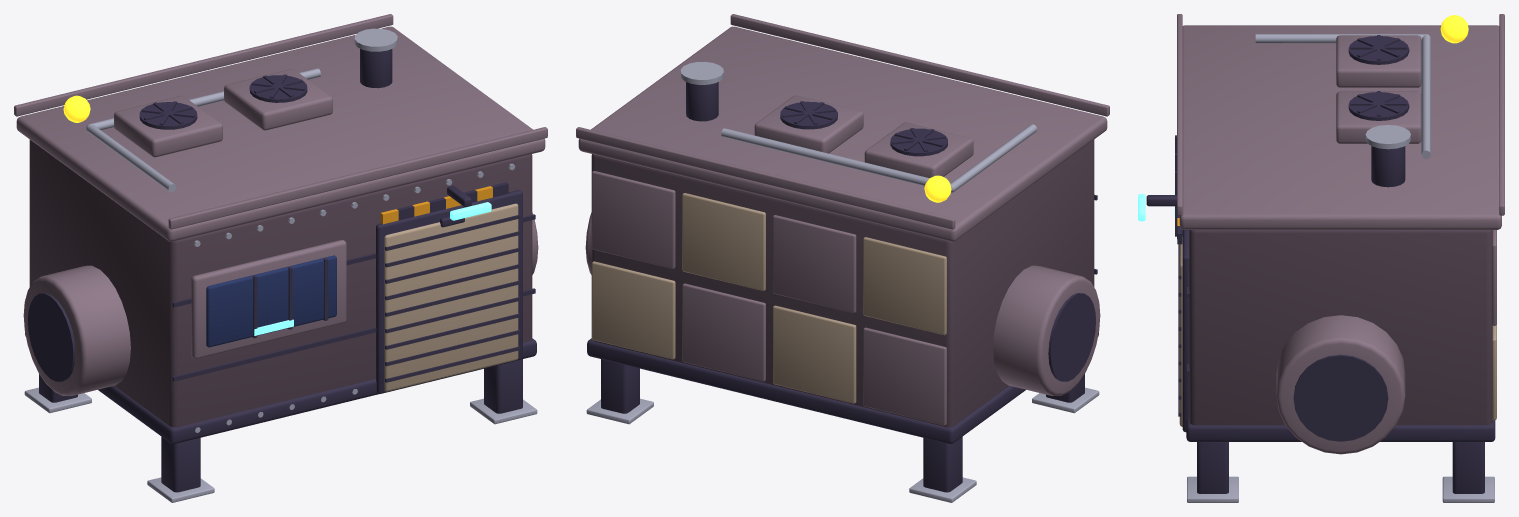
File: workshop.glb
3 renders of one model, left to right at view 1: azimuth 30°, elevation 25°; view 2: azimuth 150°, elevation 25°; view 3: azimuth 270°, elevation 25°, orthographic. The views are drawn at different scales.
Parts seen in each view (by area): view 1: workshop; view 2: workshop; view 3: workshop.
Part boxes in pixels (box(x1,y1,x2,y2)): workshop: box(14, 14, 547, 502); workshop: box(576, 14, 1109, 502); workshop: box(1138, 14, 1504, 502).
Size of the model in its own units: 5.86 by 3.91 by 3.87.
